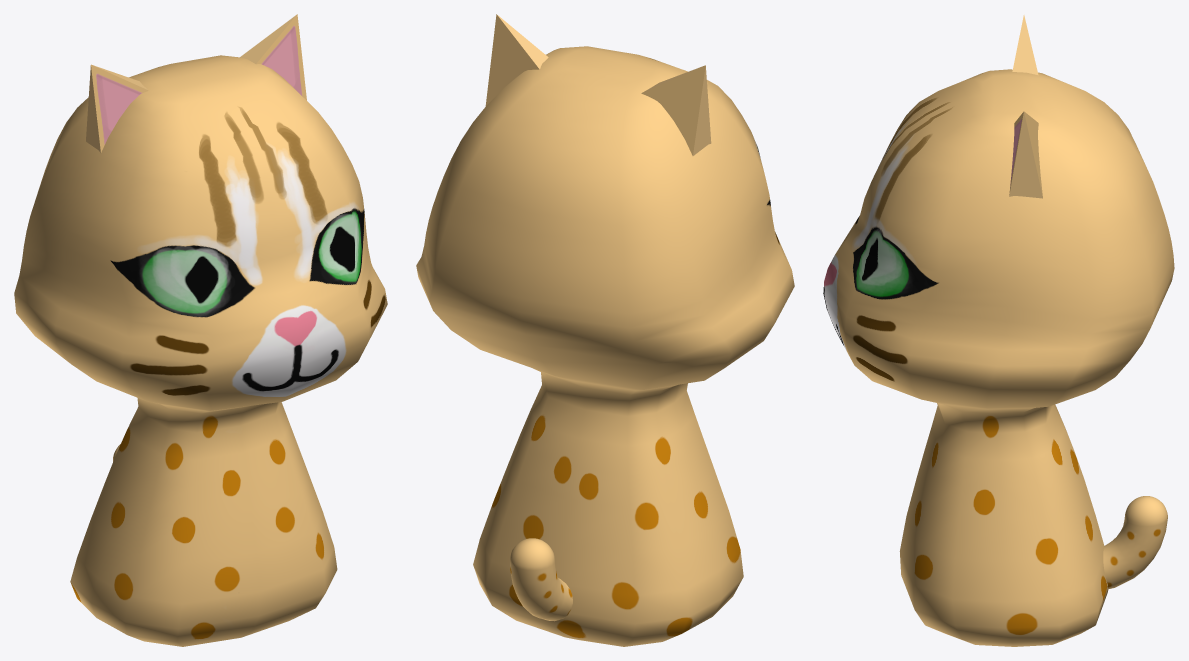
Rendered from cat.fbx.
3 views of the same model, side by side, from view 1: azimuth 30°, elevation 25°; view 2: azimuth 150°, elevation 25°; view 3: azimuth 270°, elevation 25° (orthographic). The views are drawn at different scales.
Visible parts, largest first — view 1: group3; view 2: group3; view 3: group3.
Boxes of the visible parts, x1,y1,x2,y2 form: group3: (14,14,387,646); group3: (416,14,794,646); group3: (823,15,1174,646).
Size of the model in its own units: 0.4389 by 0.7814 by 0.4433.
